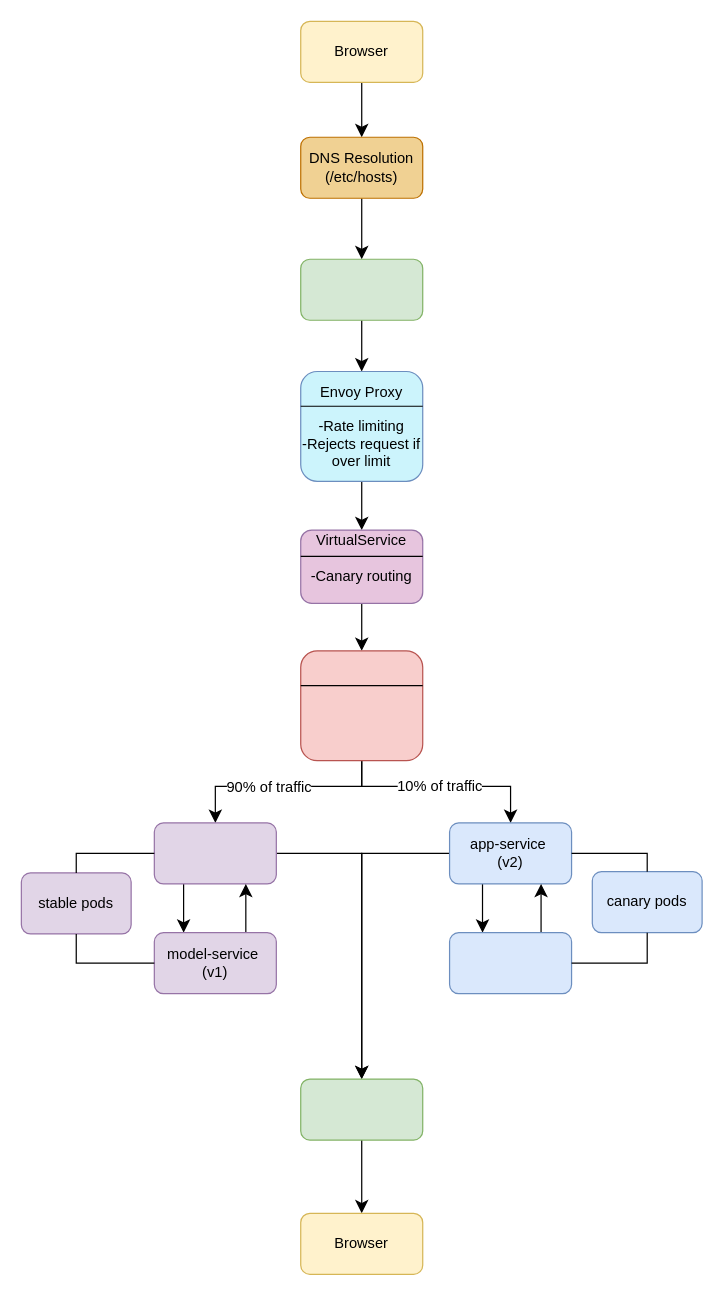
The diagram is 723 pixels wide and 1296 high, and some of its shapes have lost their labels. Here are the shapes that lost their labels. From the top down, the box of each, then its label:
(300, 258, 423, 320): Istio Ingress Gateway (port 80)
(300, 650, 423, 761): Destination Rule -Defines v1,v 2 -Enable sticky session
(153, 822, 276, 884): app-service (v1)
(448, 931, 572, 994): model-service (v2)
(300, 1078, 423, 1140): Gateway
